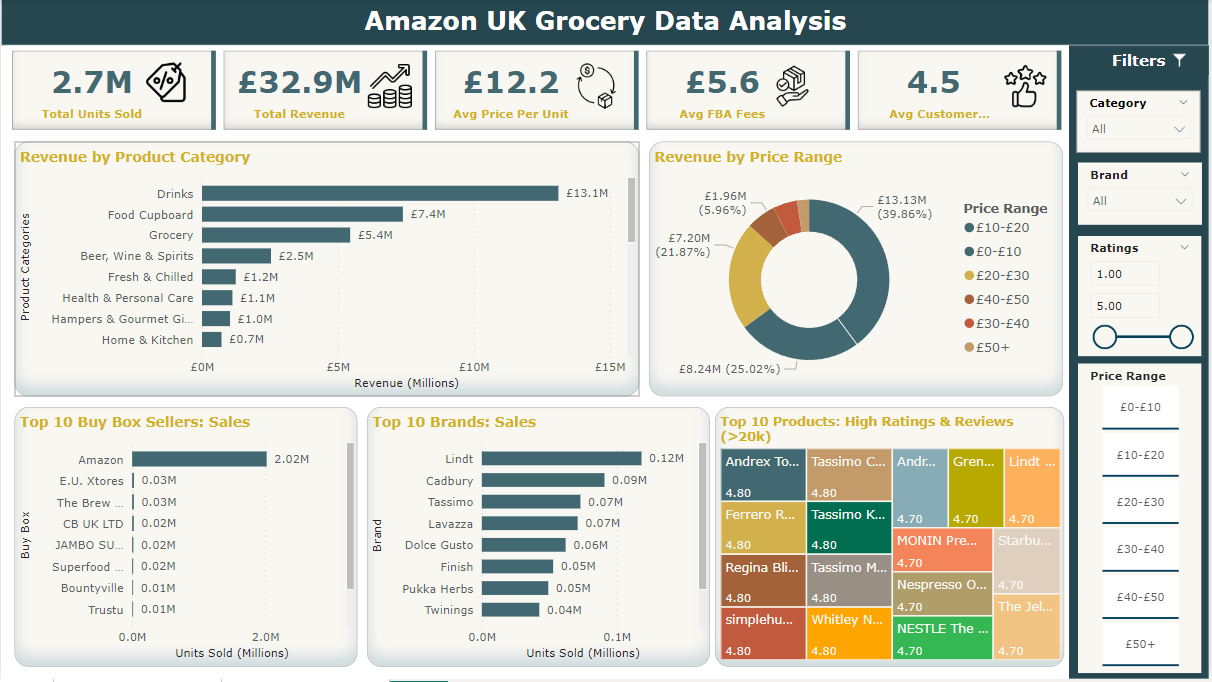

The dashboard page shown, as its layout file describes it:
{"tool":"powerbi","page":{"name":"Overview","canvas":[1280,720],"ordinal":0},"visuals":[{"type":"shape","box":[1131.9,49.3,147.8,670.7],"z":0},{"type":"textbox","box":[0,0,1279.7,49.3],"z":1000},{"type":"clusteredBarChart","title":"Revenue by Product Category","fields":{"Category":["Data.Category"],"Y":["Sum(Data.Revenue)"]},"box":[15,151.7,661.7,270],"z":2000},{"type":"donutChart","title":"Revenue by Price Range","fields":{"Category":["Data.Price Range"],"Y":["Sum(Data.Revenue)"]},"box":[686.7,151.7,438.3,270],"z":3000},{"type":"barChart","title":"Top 10 Brands: Sales","fields":{"Category":["Data.Brand"],"Y":["Sum(Data.Sales)"]},"box":[388.3,431.7,363.3,275],"z":4000},{"type":"barChart","title":"Top 10 Buy Box Sellers: Sales","fields":{"Category":["Data.Buy Box"],"Y":["Sum(Data.Sales)"]},"box":[15,431.7,363.3,275],"z":5000},{"type":"cardVisual","fields":{"Data":["Data.Total Units Sold","Data.Total Revenue","Data.Avg Price Per Unit","Data.Avg FBA Fees","Data.Avg Customer Rating"]},"box":[7.1,49.4,1124.8,95.7],"z":6000},{"type":"slicer","fields":{"Values":["Data.Brand"]},"box":[1140.9,172.8,131,66.3],"z":7000},{"type":"slicer","fields":{"Values":["Data.Ratings"]},"box":[1140.9,251.6,130.7,127.2],"z":8000},{"type":"slicer","fields":{"Values":["Data.Price Range"]},"box":[1140.9,386,130.7,327.8],"z":9000},{"type":"textbox","box":[1131.9,49.3,147.8,31.3],"z":10000},{"type":"slicer","fields":{"Values":["Data.Category"]},"box":[1139.1,97.6,131.6,66.3],"z":11000},{"type":"image","box":[1233.1,49.3,30.4,31.3],"z":12000},{"type":"treemap","title":"Top 10 Products: High Ratings & Reviews (>20k)","fields":{"Group":["Data.Product Details"],"Values":["Avg(Data.Ratings)"]},"box":[756.7,431.7,370,275],"z":13000}]}

Visuals, with their boxes in screenshot pixels (x1, y1, x2, y2), scaled from the page's 1280x720 canvas onto the 1212x682 screenshot:
shape: (left=1072, top=47, right=1211, bottom=681)
textbox: (left=0, top=0, right=1211, bottom=47)
"Revenue by Product Category" clusteredBarChart: (left=14, top=144, right=641, bottom=399)
"Revenue by Price Range" donutChart: (left=650, top=144, right=1065, bottom=399)
"Top 10 Brands: Sales" barChart: (left=368, top=409, right=712, bottom=669)
"Top 10 Buy Box Sellers: Sales" barChart: (left=14, top=409, right=358, bottom=669)
cardVisual - Data.Total Units Sold x Data.Total Revenue: (left=7, top=47, right=1072, bottom=137)
slicer - Data.Brand: (left=1080, top=164, right=1204, bottom=226)
slicer - Data.Ratings: (left=1080, top=238, right=1204, bottom=359)
slicer - Data.Price Range: (left=1080, top=366, right=1204, bottom=676)
textbox: (left=1072, top=47, right=1211, bottom=76)
slicer - Data.Category: (left=1079, top=92, right=1203, bottom=155)
image: (left=1168, top=47, right=1196, bottom=76)
"Top 10 Products: High Ratings & Reviews (>20k)" treemap: (left=717, top=409, right=1067, bottom=669)
